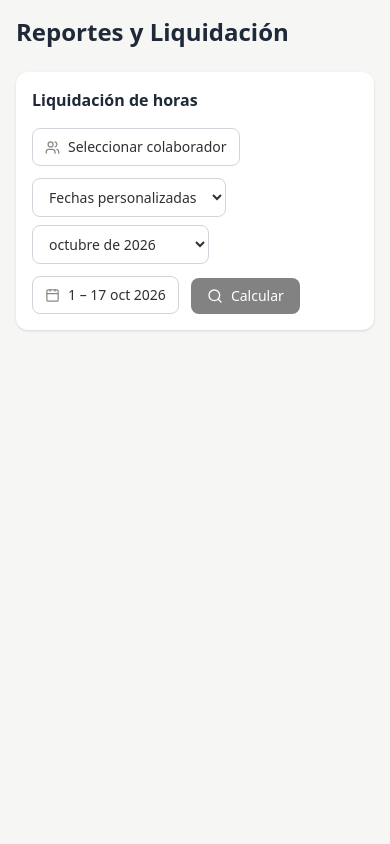
Scenario: el período de pago en el reporte por persona › con fechas que no son un período, no hay total y se pide elegir uno
Click the button "Seleccionar colaborador" at (136, 147), box x1=32 y1=128 x2=240 y2=166
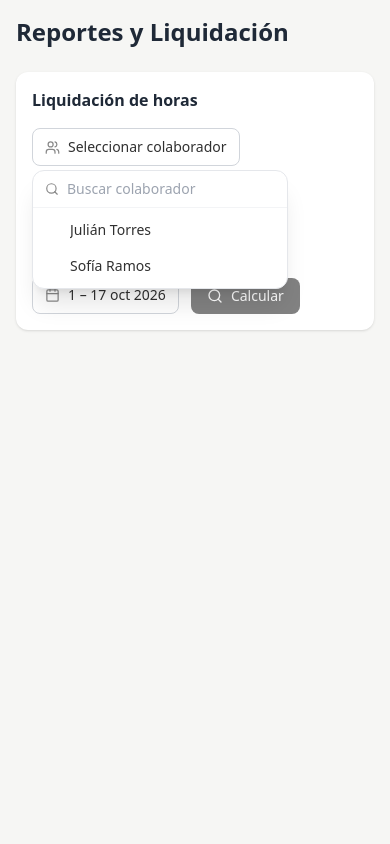
Click the button "Julián Torres" at (160, 230), box x1=33 y1=212 x2=287 y2=248
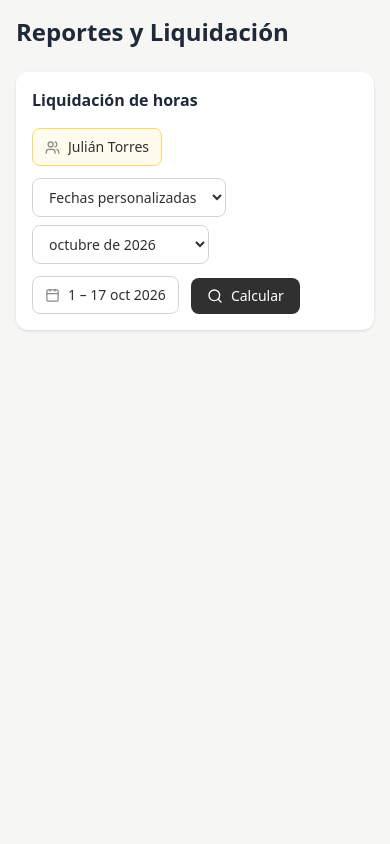
Click the button "Calcular" at (245, 296), box x1=191 y1=278 x2=300 y2=314
(page scrolled)
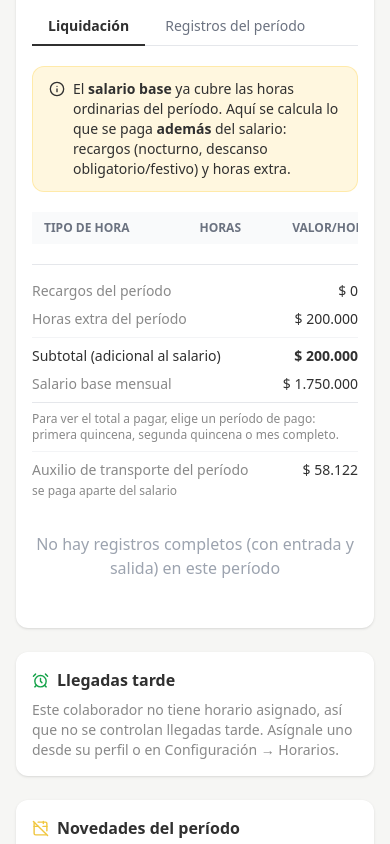
Expected: the text "elige un período de pago" is shown, x1=32 y1=410 x2=339 y2=443
